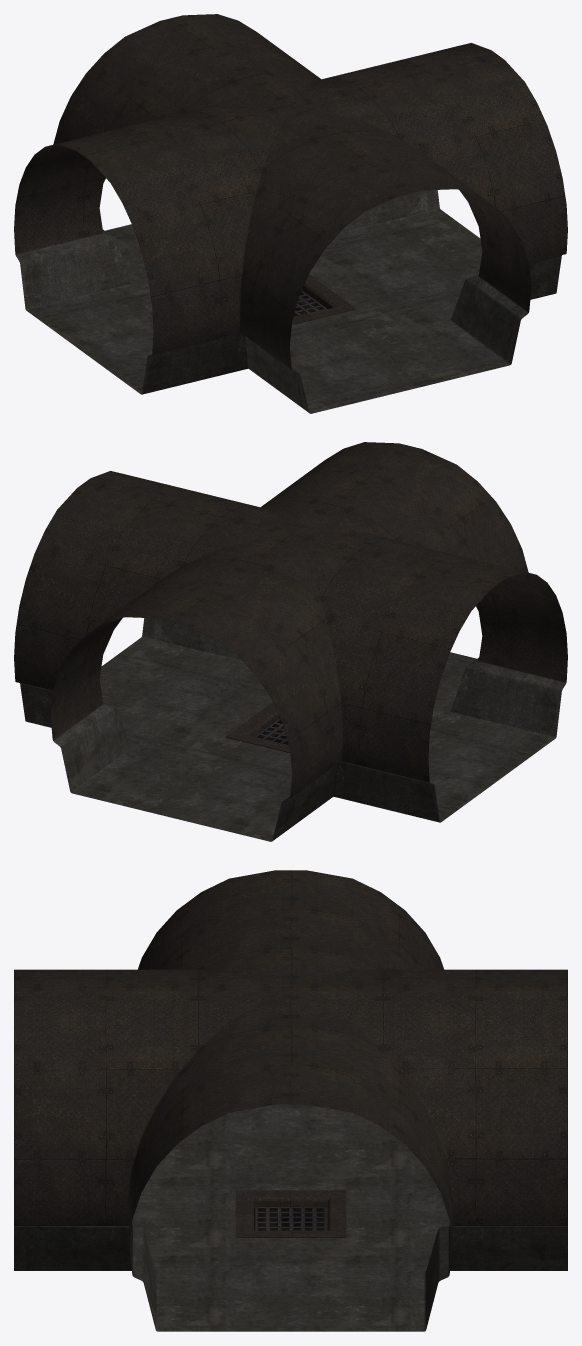
Rendered from tunnel_junction_four_way.dae.
The picture shows the model from 3 angles, top to bottom: view 1: azimuth 30°, elevation 25°; view 2: azimuth 150°, elevation 25°; view 3: azimuth 270°, elevation 25°; orthographic projection. The views are drawn at different scales.
Visible parts, largest first — view 1: tunnel_junction_four_way; view 2: tunnel_junction_four_way; view 3: tunnel_junction_four_way.
Boxes of the visible parts, x1,y1,x2,y2 form: tunnel_junction_four_way: (14, 14, 567, 413); tunnel_junction_four_way: (14, 442, 567, 841); tunnel_junction_four_way: (14, 870, 567, 1331).
Bounding box in the file's own units: 6 × 6 × 2.82.
Materials: 4 (4 with a texture image).
